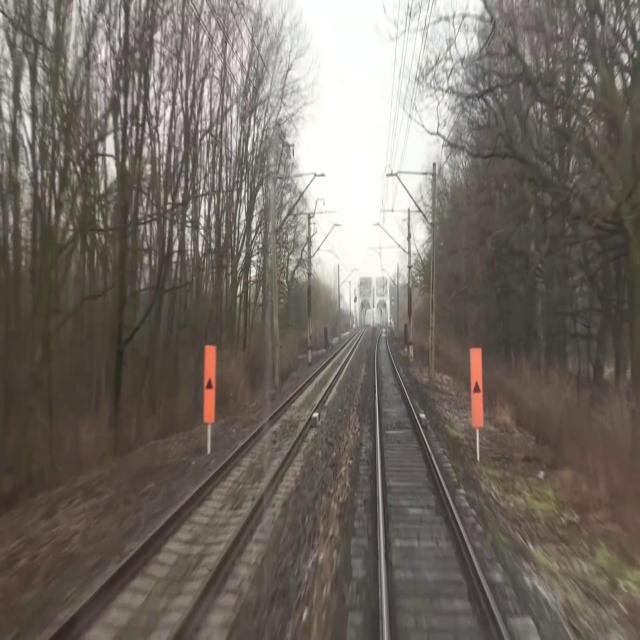rail-track: (51, 328, 362, 639), (377, 328, 503, 639)
